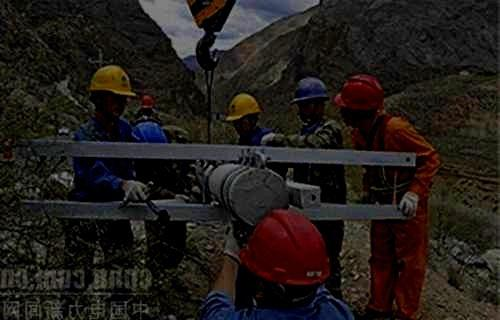helmet: (238, 209, 330, 312), (334, 74, 385, 130), (89, 64, 137, 120), (289, 78, 330, 124), (224, 92, 263, 136), (140, 94, 154, 115)
